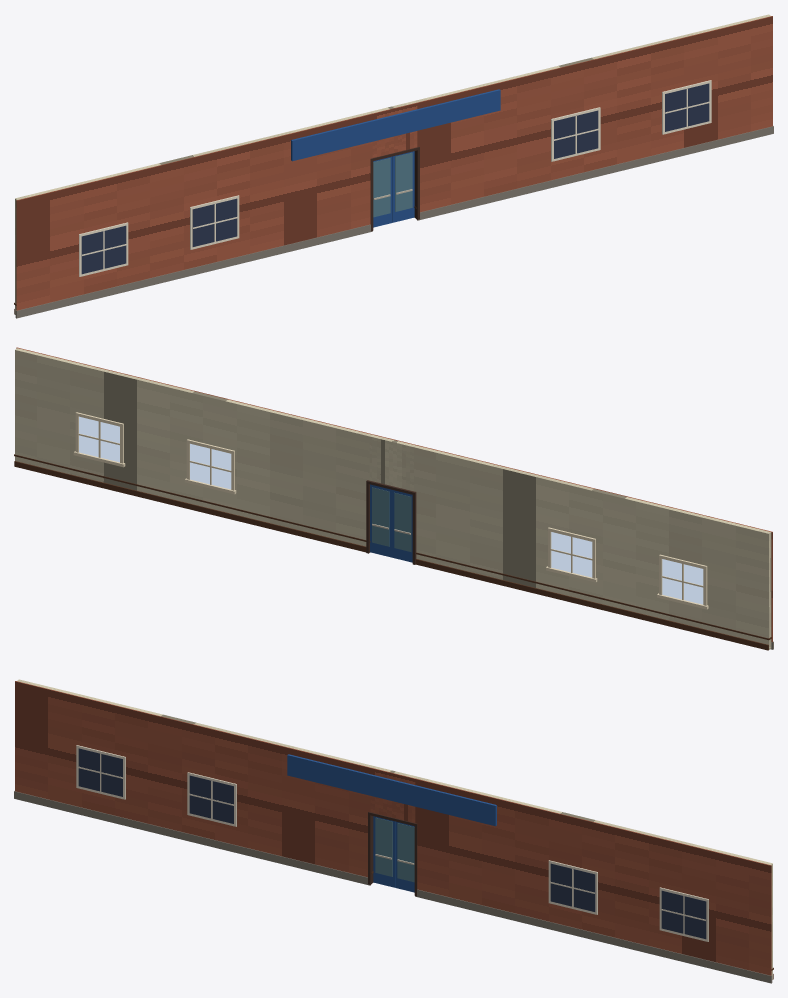
Rendered from front.glb.
3 views of the same model, one above another, from view 1: azimuth 30°, elevation 25°; view 2: azimuth 150°, elevation 25°; view 3: azimuth 330°, elevation 25° (orthographic).
Parts seen in each view (by area): view 1: Box6, Box8, Box22, Box7, Box9, Box24, Box35, Box57, Box46, Box1, Box10, Box3 (+7 smaller); view 2: Box1, Box3, Box2, Box4, Box5, Box53, Box42, Box31, Box64, Box69, Box67, Box19 (+6 smaller); view 3: Box8, Box6, Box22, Box9, Box7, Box57, Box46, Box24, Box35, Box3, Box10, Box1 (+7 smaller).
Part boxes in pixels (x1,y1,x2,y2): Box6: [16, 113, 372, 310]; Box8: [416, 16, 772, 219]; Box22: [291, 89, 500, 161]; Box7: [15, 224, 372, 318]; Box9: [417, 126, 773, 220]; Box24: [81, 225, 126, 274]; Box35: [192, 198, 237, 246]; Box57: [665, 83, 709, 131]; Box46: [554, 110, 598, 158]; Box1: [15, 112, 371, 314]; Box10: [372, 103, 417, 157]; Box3: [414, 14, 770, 102]; Box1: [414, 445, 771, 649]; Box3: [15, 348, 371, 546]; Box2: [415, 559, 768, 650]; Box4: [14, 461, 366, 552]; Box5: [369, 434, 415, 491]; Box53: [190, 443, 231, 489]; Box42: [551, 532, 592, 577]; Box31: [662, 559, 703, 604]; Box64: [79, 416, 119, 462]; Box69: [15, 457, 366, 546]; Box67: [440, 563, 770, 649]; Box19: [372, 487, 389, 546]; Box8: [415, 778, 771, 975]; Box6: [15, 681, 371, 884]; Box22: [287, 754, 496, 826]; Box9: [415, 889, 772, 983]; Box7: [14, 791, 370, 885]; Box57: [661, 890, 706, 939]; Box46: [550, 863, 595, 911]; Box24: [78, 748, 122, 796]; Box35: [189, 775, 233, 823]; Box3: [416, 777, 772, 979]; Box10: [370, 768, 415, 822]; Box1: [17, 679, 373, 767].
Size of the model in its own units: 27.27 by 4.04 by 0.385.
Materials: 12 (2 with a texture image).
